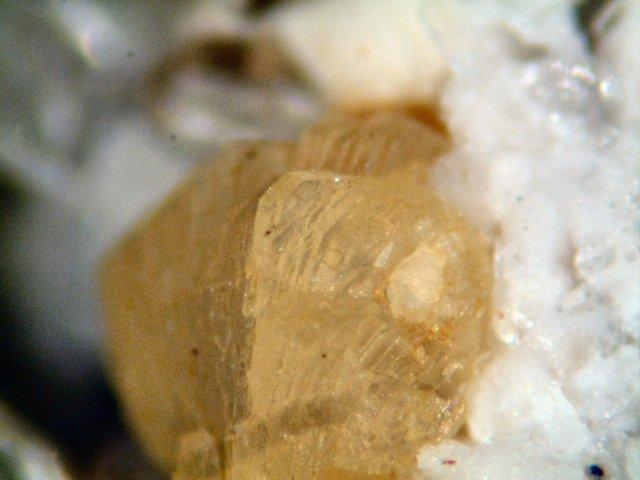prehnite: (226, 171, 494, 479)
